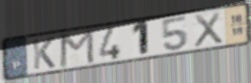1: (130, 19, 151, 57)
4: (98, 26, 123, 61)
5: (160, 14, 189, 53)
K: (31, 36, 57, 71)
M: (58, 28, 96, 69)
X: (192, 10, 225, 49)
